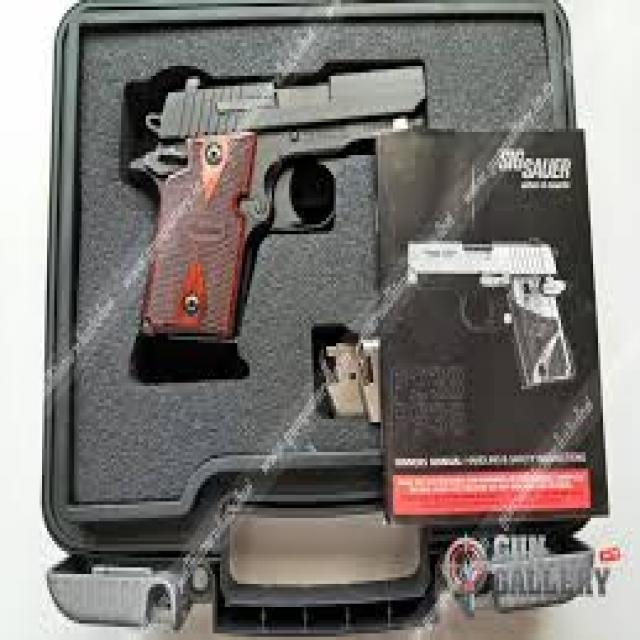semi automatic: (119, 37, 442, 404)
